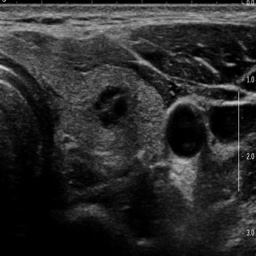mass: (97, 87, 130, 124)
